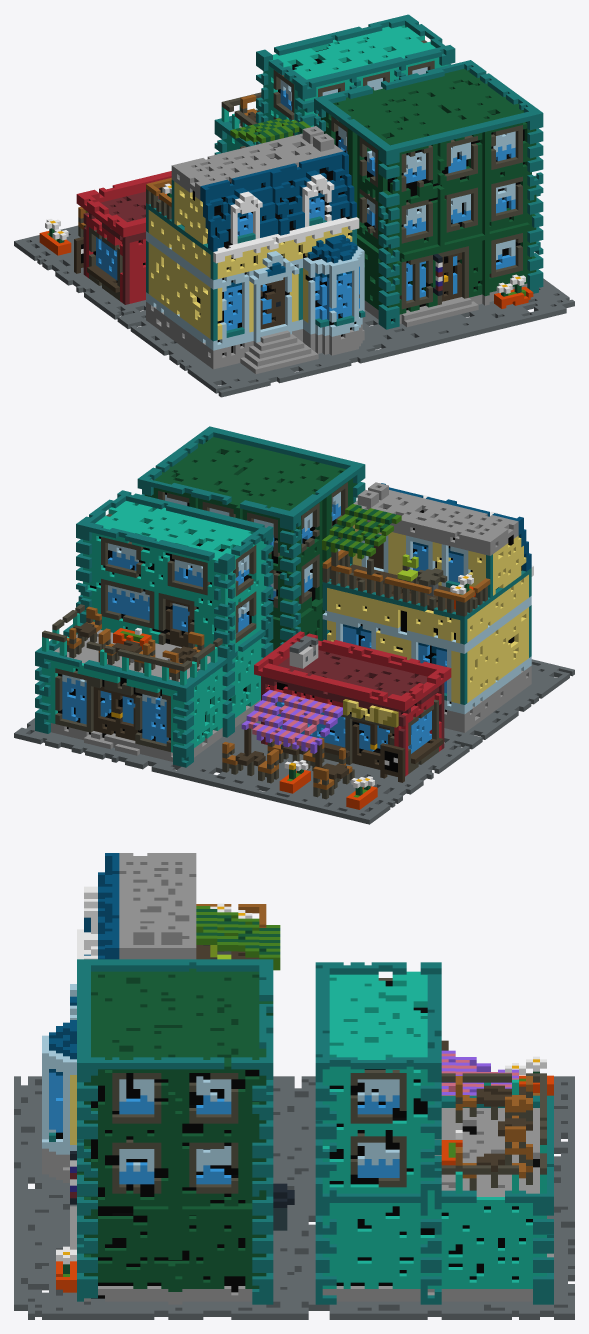
The model's file is building_small_9_damaged.obj.
3 renders of one model, top to bottom at view 1: azimuth 30°, elevation 25°; view 2: azimuth 150°, elevation 25°; view 3: azimuth 270°, elevation 25°, orthographic. The views are drawn at different scales.
Bounding box in the file's own units: 8 × 4 × 8.
1 material, 1 textured.
